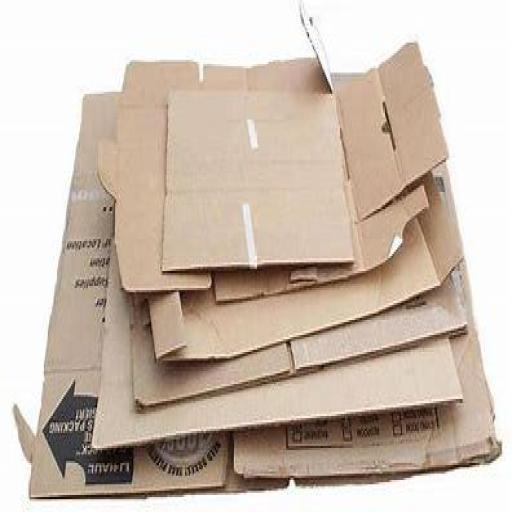cardboard: (27, 40, 502, 500)
